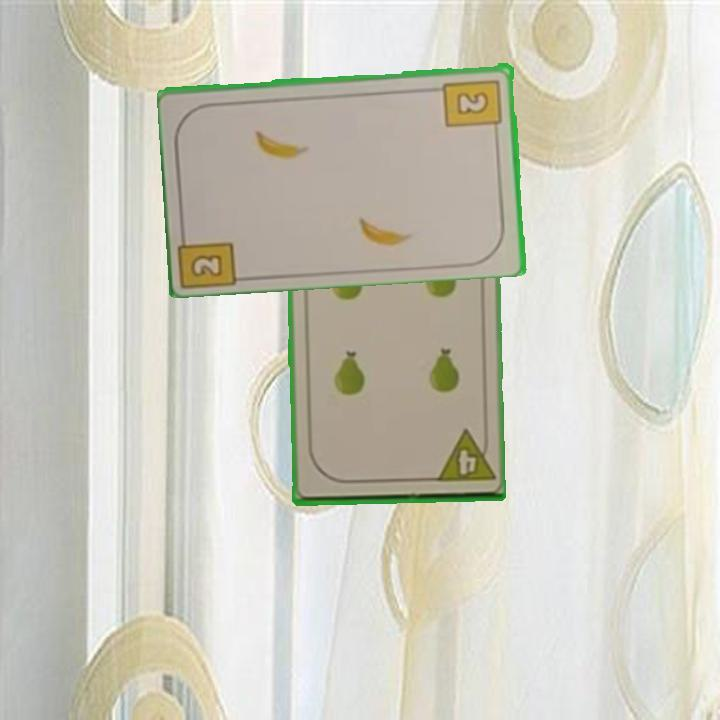2b: (178, 223, 242, 288), (441, 75, 505, 136)
4p: (431, 427, 496, 485)
